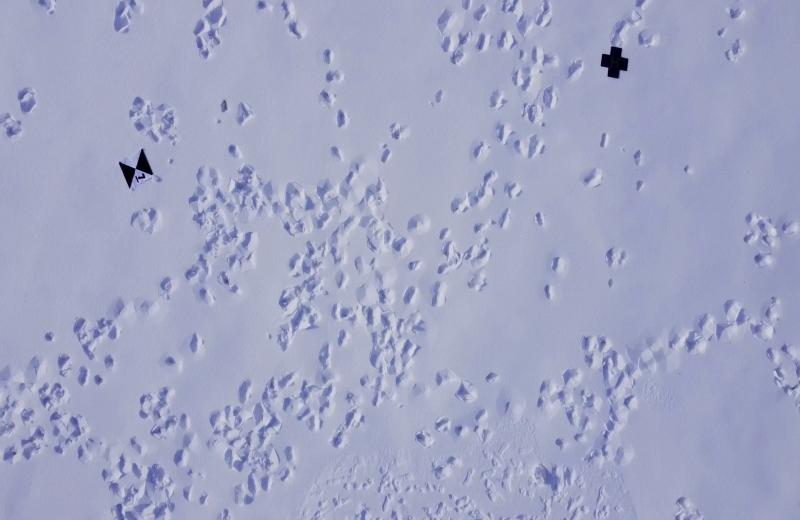Cross: (599, 45, 633, 79)
